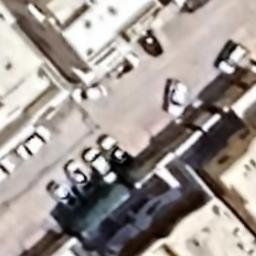SUV: (216, 44, 248, 76), (166, 77, 188, 117)
pickup: (49, 184, 81, 212)
sedan: (82, 146, 118, 184), (15, 126, 51, 160), (65, 160, 95, 197), (99, 136, 128, 164), (70, 84, 108, 104)
